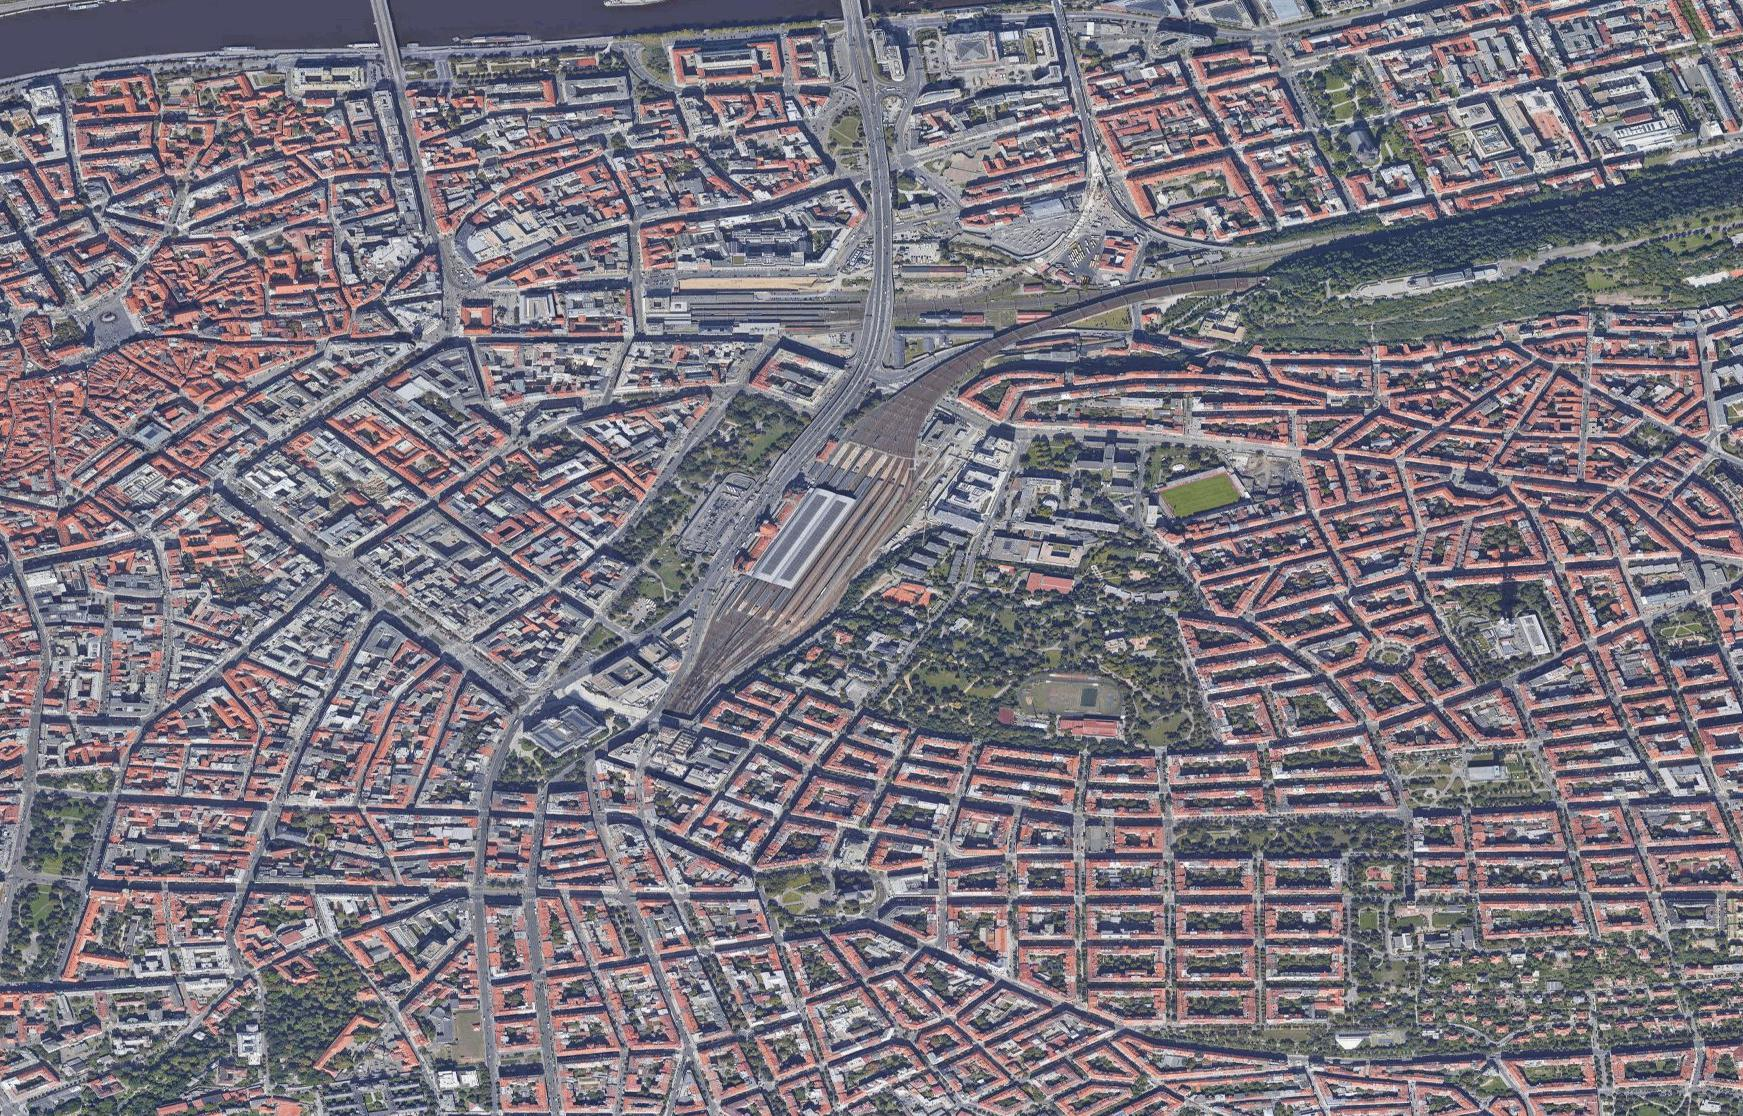bridge: (368, 1, 409, 61)
motorway: (841, 1, 899, 262), (826, 259, 899, 419)
train_station: (682, 416, 911, 690)
